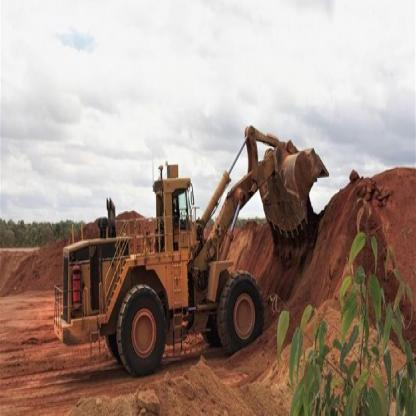bull_dozer/loader/grader: (36, 103, 329, 372)
